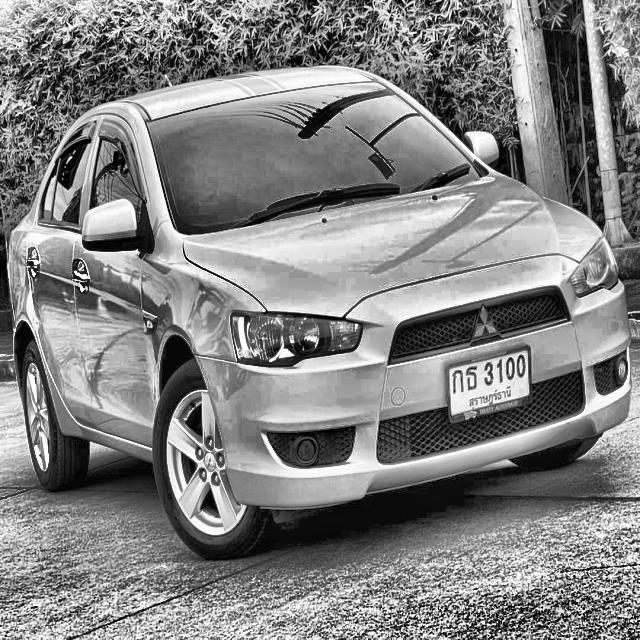license-plate: (443, 344, 534, 422)
